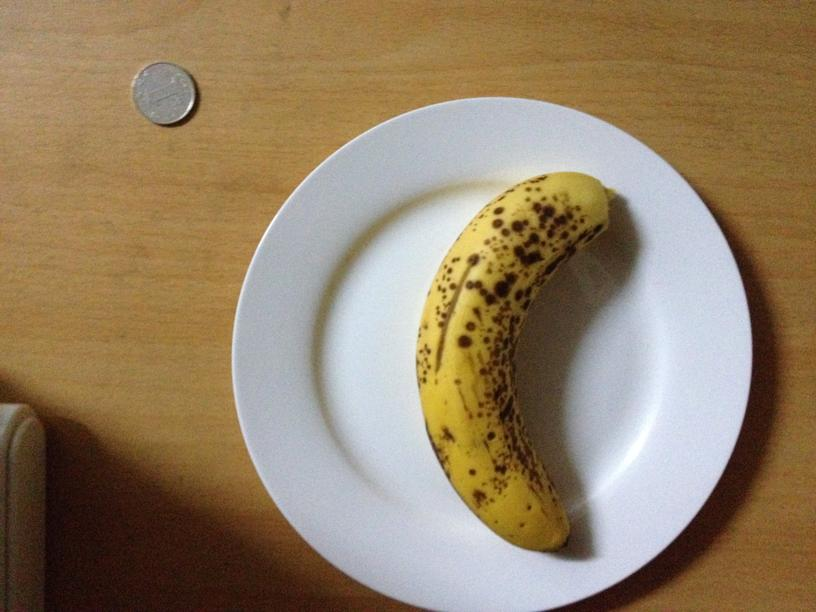banana: (416, 164, 611, 547)
coin: (129, 60, 197, 125)
